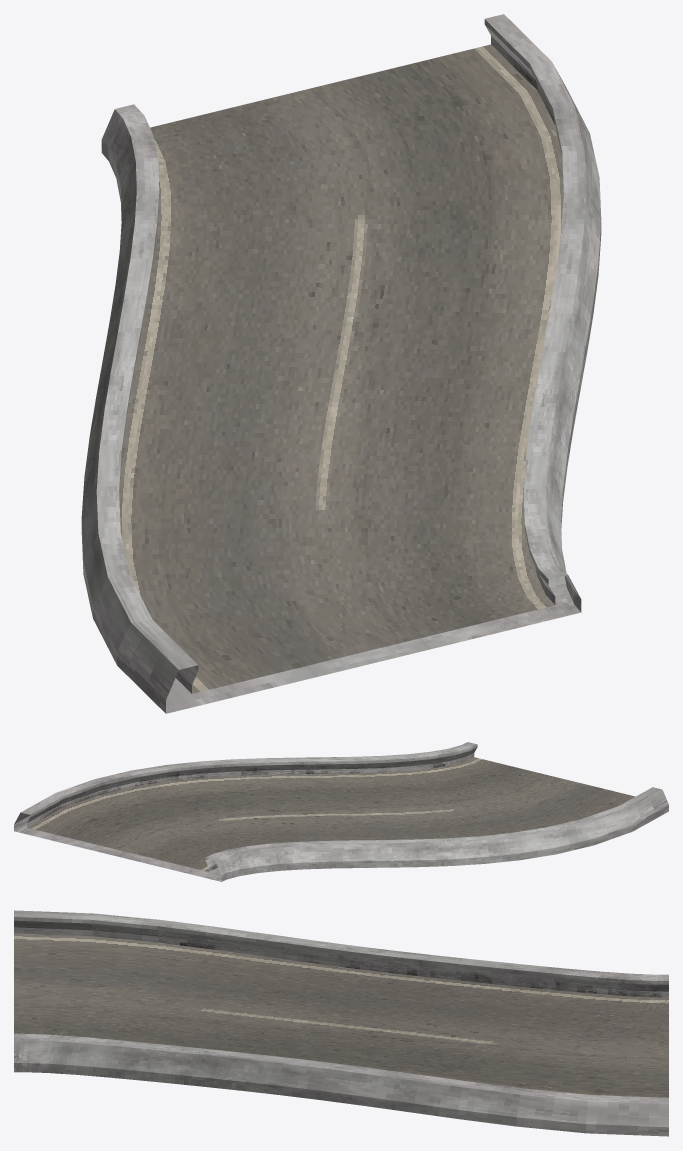
File: chicane-right1x2.glb
3 views of the same model, one above another, from view 1: azimuth 30°, elevation 25°; view 2: azimuth 150°, elevation 25°; view 3: azimuth 270°, elevation 25° (orthographic). The views are drawn at different scales.
Parts seen in each view (by area): view 1: road-Chicane-Flat-Flat-Up1-Right1-Size2; view 2: road-Chicane-Flat-Flat-Up1-Right1-Size2; view 3: road-Chicane-Flat-Flat-Up1-Right1-Size2.
Part boxes in pixels (x1,y1,x2,y2): road-Chicane-Flat-Flat-Up1-Right1-Size2: [81, 14, 601, 713]; road-Chicane-Flat-Flat-Up1-Right1-Size2: [14, 742, 668, 881]; road-Chicane-Flat-Flat-Up1-Right1-Size2: [14, 910, 668, 1136].
Size of the model in its own units: 2 by 0.3438 by 2.
2 materials, 2 textured.
